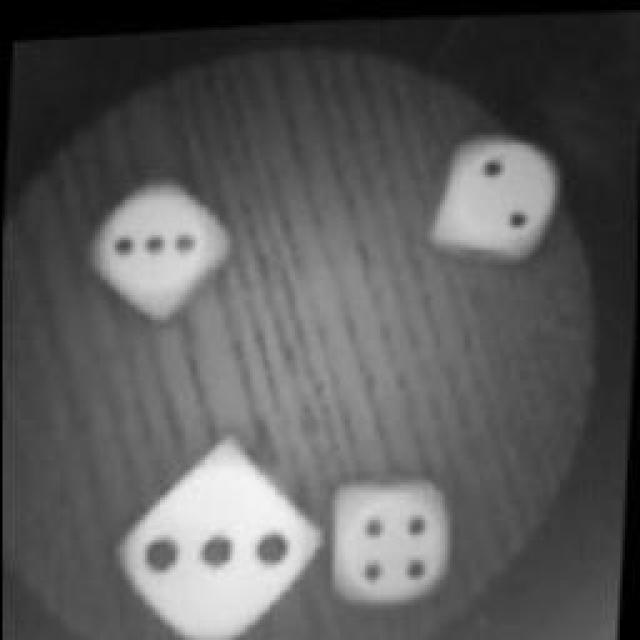dice_2: (435, 125, 570, 265)
dice_3: (110, 435, 328, 640), (91, 167, 231, 315)
dice_4: (326, 469, 462, 616)
